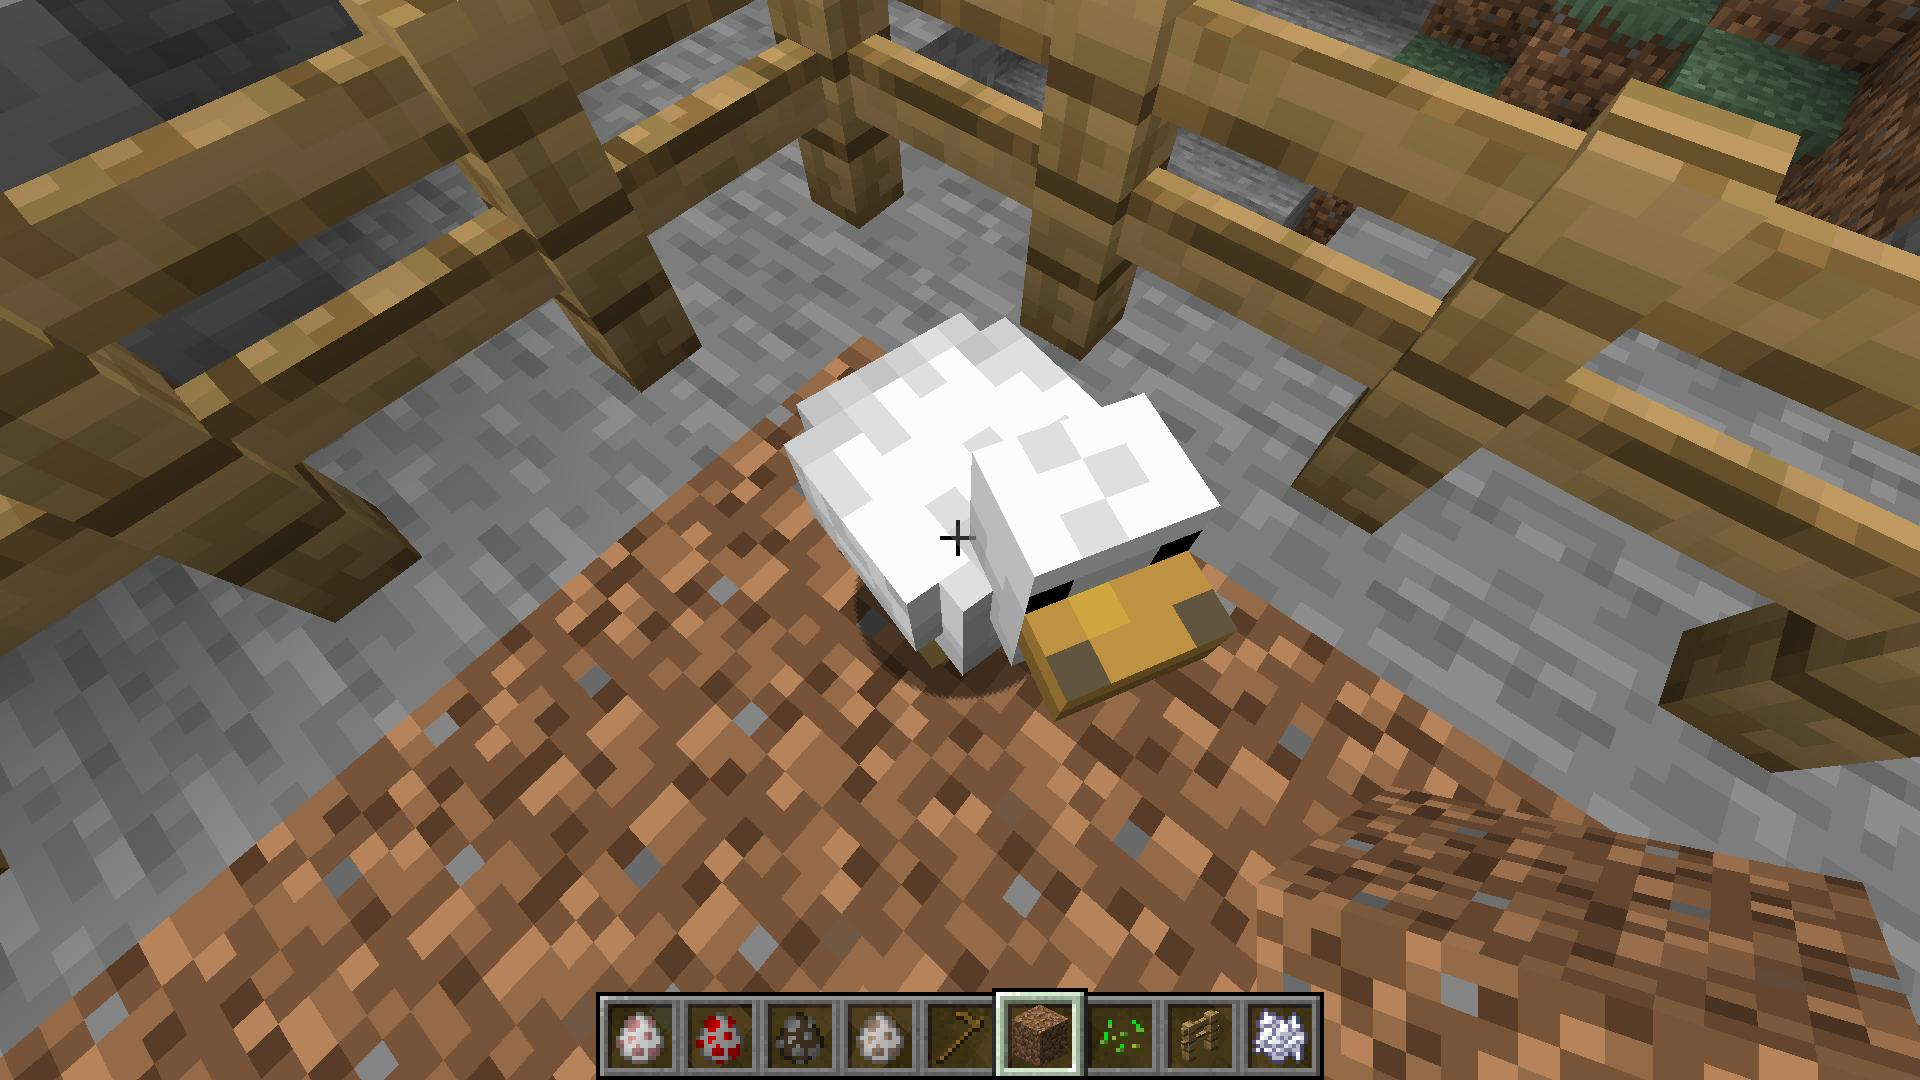chicken: (771, 306, 1240, 721)
